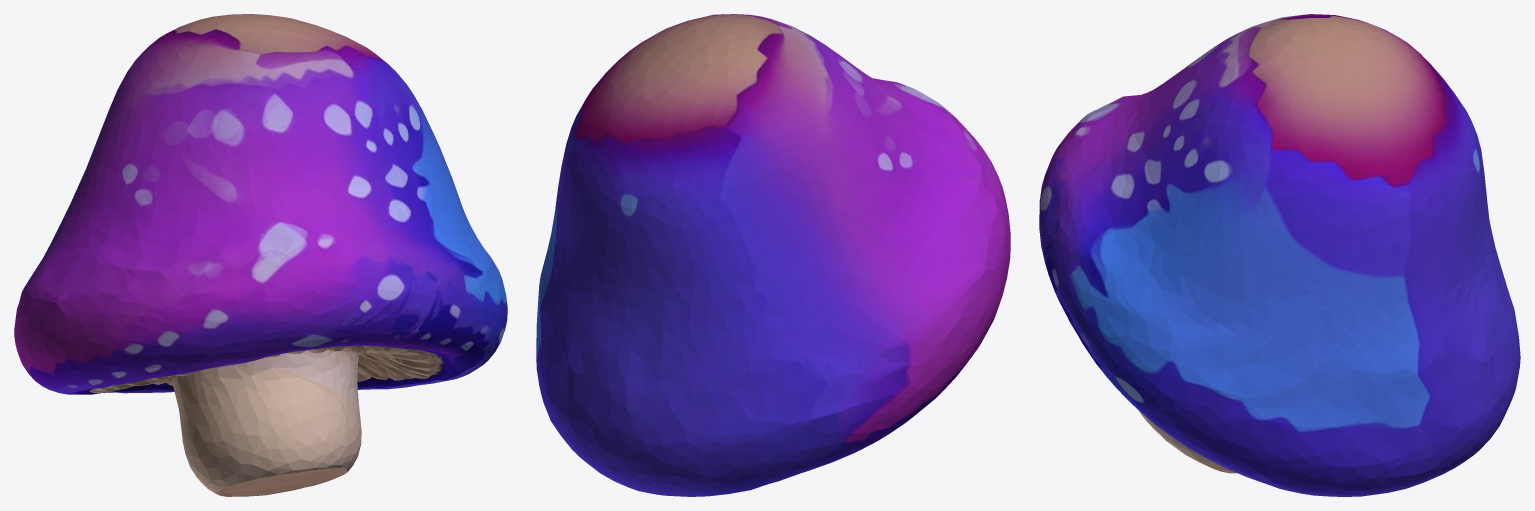
File: bounce_fungus.glb
The picture shows the model from 3 angles, left to right: view 1: azimuth 30°, elevation 25°; view 2: azimuth 150°, elevation 25°; view 3: azimuth 270°, elevation 25°; orthographic projection.
Visible parts, largest first — view 1: tmpxc3crbms.ply; view 2: tmpxc3crbms.ply; view 3: tmpxc3crbms.ply.
Part boxes in pixels (x1,y1,x2,y2): tmpxc3crbms.ply: (14,14,507,496); tmpxc3crbms.ply: (536,14,1010,496); tmpxc3crbms.ply: (1039,14,1520,496).
Bounding box in the file's own units: 1.99 × 1.98 × 1.94.
Materials: 1 (1 with a texture image).
